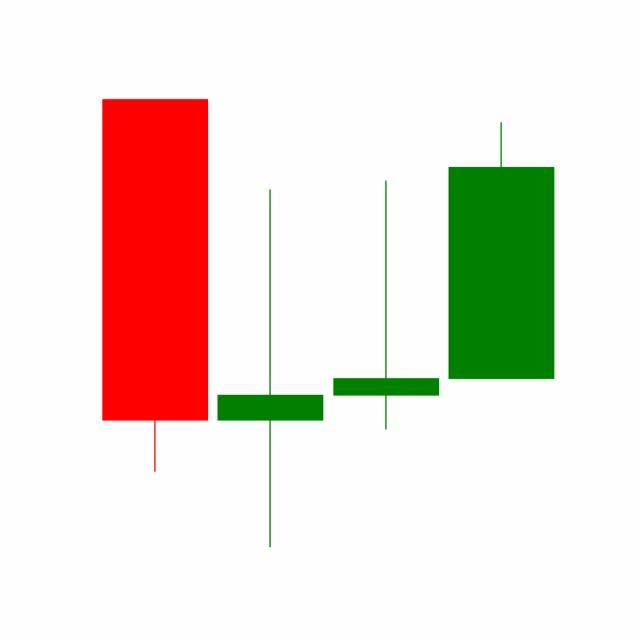Spinning Top: (329, 178, 445, 433)
